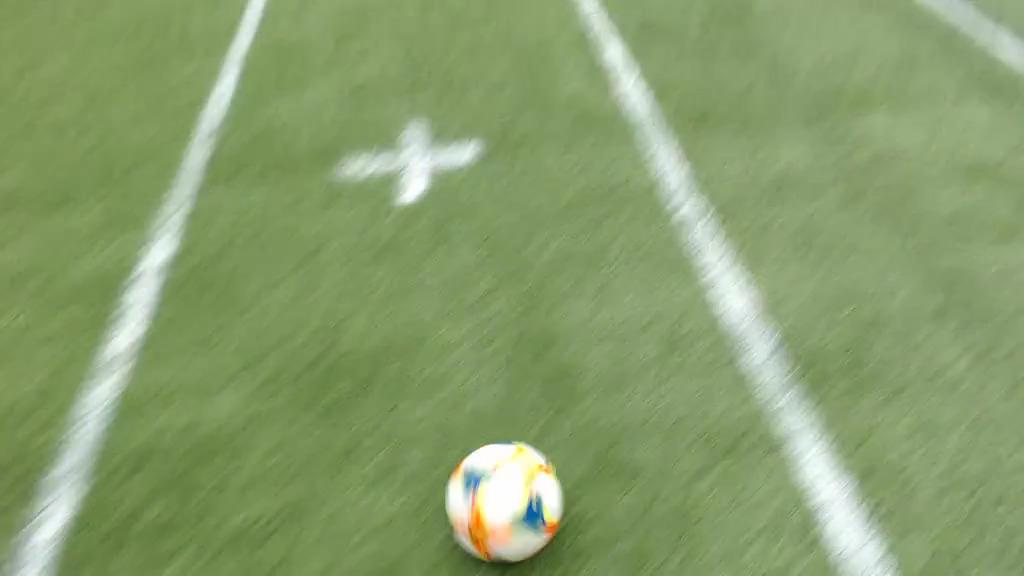ball: (448, 442, 563, 565)
